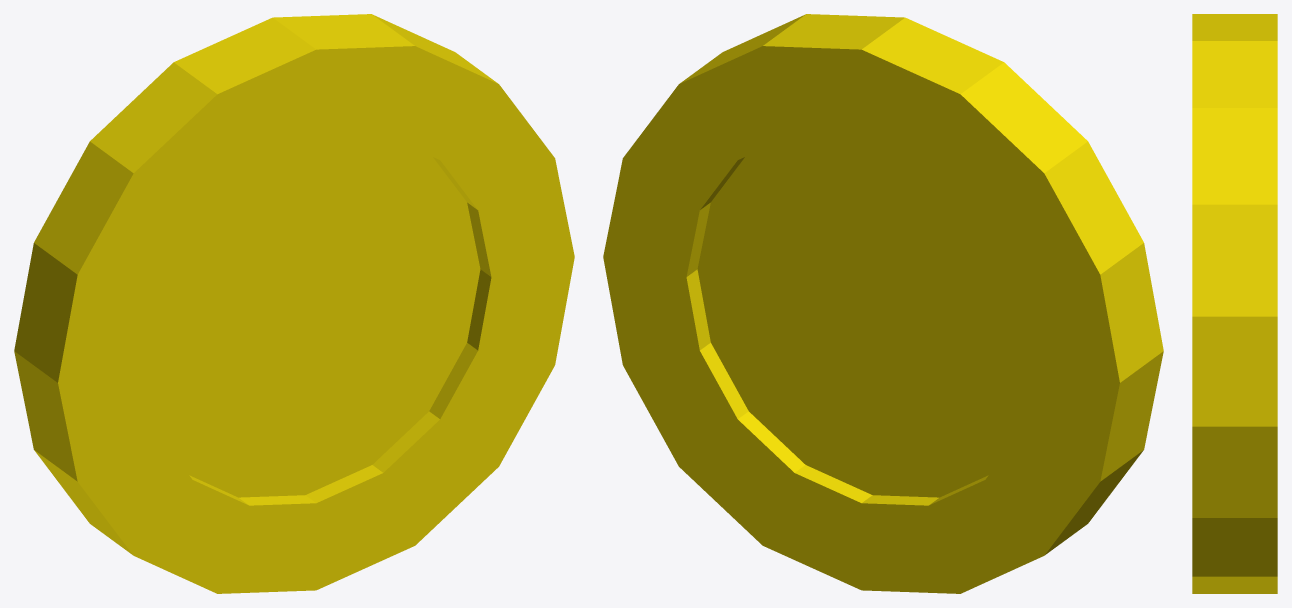
The model's file is Coin1.fbx.
3 views of the same model, side by side, from view 1: azimuth 30°, elevation 25°; view 2: azimuth 150°, elevation 25°; view 3: azimuth 270°, elevation 25° (orthographic). The views are drawn at different scales.
Visible parts, largest first — view 1: bitcoin; view 2: bitcoin; view 3: bitcoin.
Boxes of the visible parts, bbox=[...] form: bitcoin: bbox=[14, 14, 574, 593]; bitcoin: bbox=[603, 14, 1163, 593]; bitcoin: bbox=[1192, 14, 1277, 593].
Bounding box in the file's own units: 0.4935 × 0.4935 × 0.0724.
